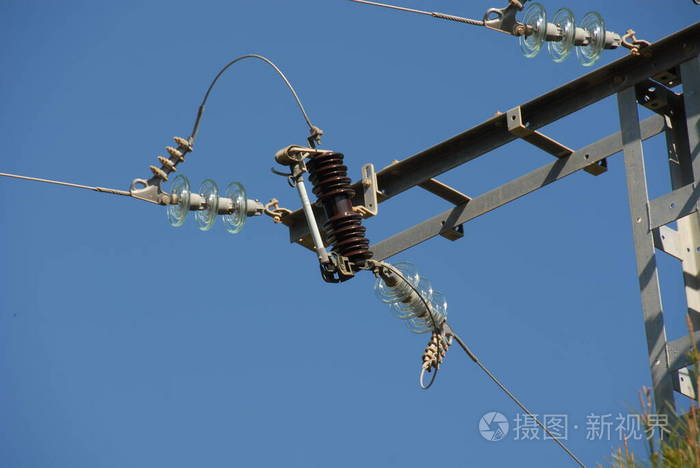insulator: (520, 1, 608, 68), (373, 261, 449, 333), (165, 171, 249, 236)
